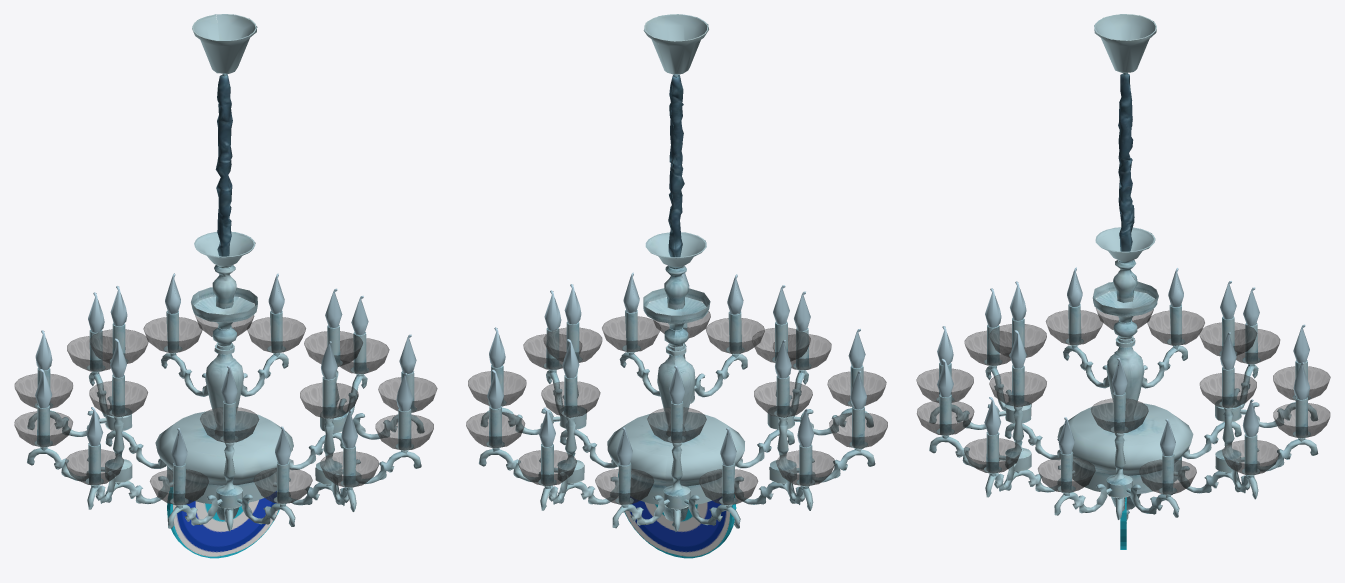
File: nyb_penguins_chandelier.glb
3 views of the same model, side by side, from view 1: azimuth 30°, elevation 25°; view 2: azimuth 150°, elevation 25°; view 3: azimuth 270°, elevation 25° (orthographic). The views are drawn at different scales.
Parts seen in each view (by area): view 1: Chandelier_03, add_nazar_die.png; view 2: Chandelier_03, add_nazar_die.png; view 3: Chandelier_03.
Part boxes in pixels (x1=…): Chandelier_03: x1=14, y1=14, x2=437, y2=531; add_nazar_die.png: x1=173, y1=491, x2=278, y2=556; Chandelier_03: x1=466, y1=14, x2=887, y2=531; add_nazar_die.png: x1=625, y1=496, x2=729, y2=556; Chandelier_03: x1=916, y1=14, x2=1330, y2=520.
Bounding box in the file's own units: 0.7816 × 1.08 × 0.7867.
Materials: 4 (3 with a texture image).
